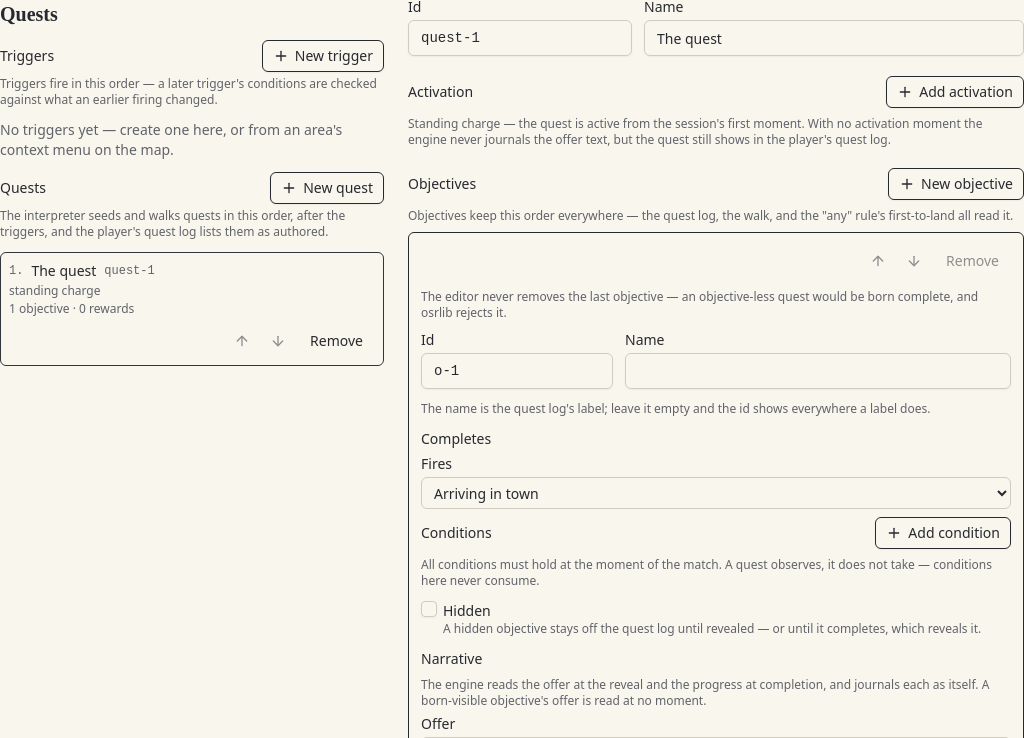
Scenario: a duplicate quest id rejection renders inline in the create dialog — the rename prompt
Click the button "New quest" at (327, 188), box [270, 172, 384, 204]
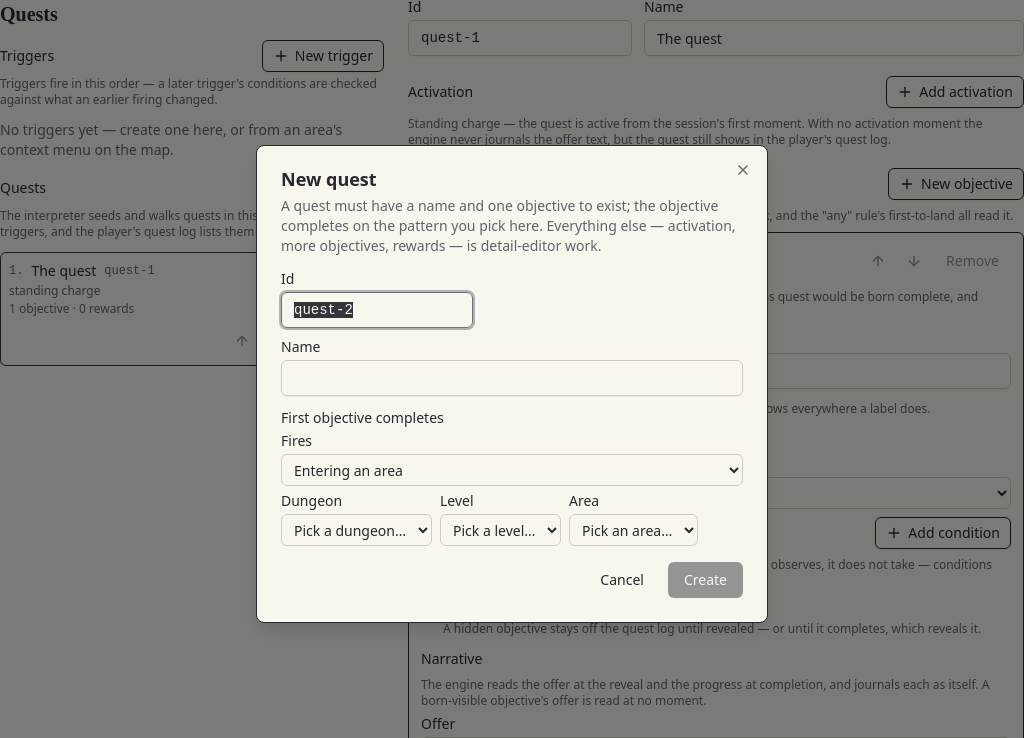
Replace the text in the field labelled "Id" with "quest-1" at (377, 310), box [281, 292, 473, 328]
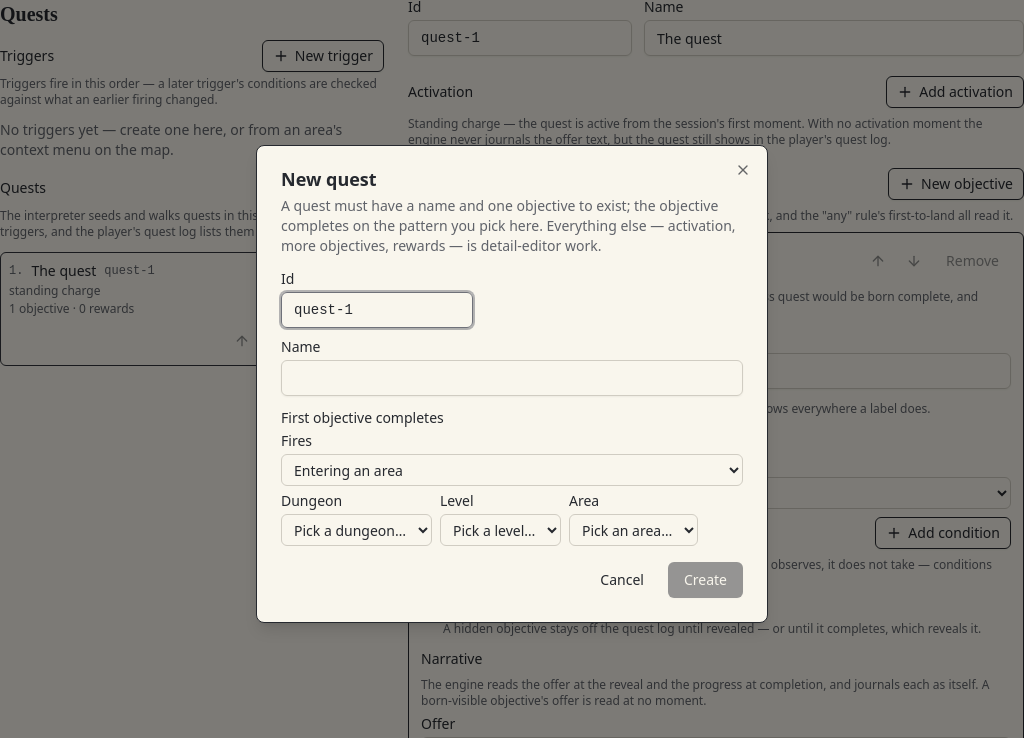
Type "The idol" into the field labelled "Name" at (512, 378), box [281, 360, 743, 396]
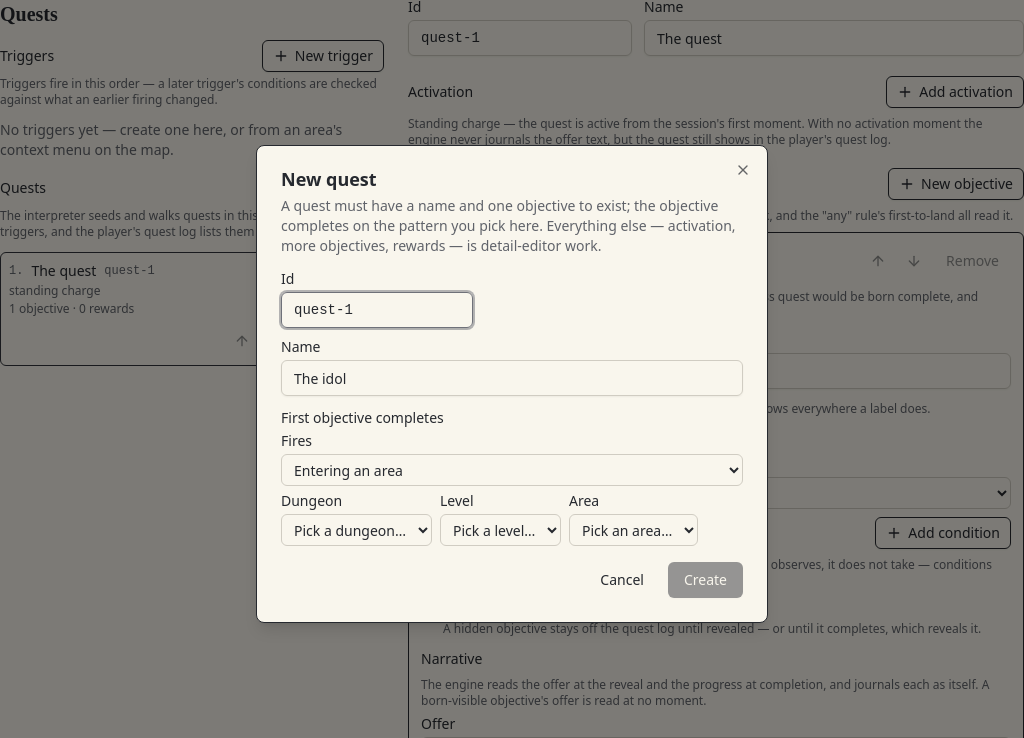
Select "Arriving in town" in the dropdown labelled "Fires" at (512, 470), box [281, 454, 743, 486]
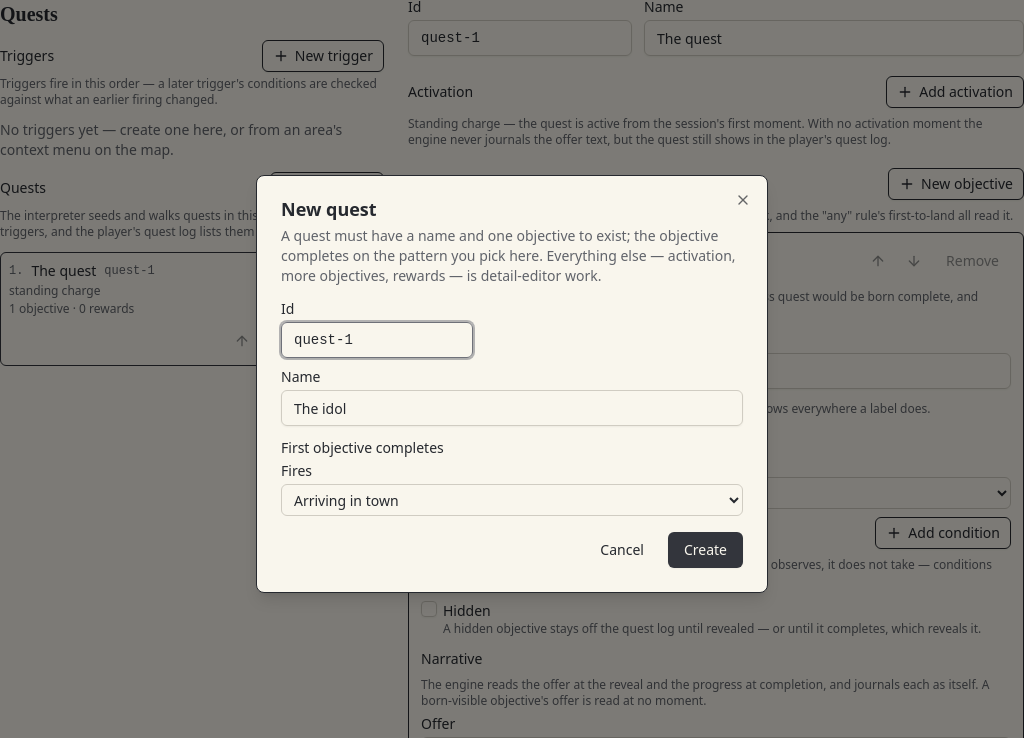
Click the button "Create" at (705, 550), box [668, 532, 743, 568]
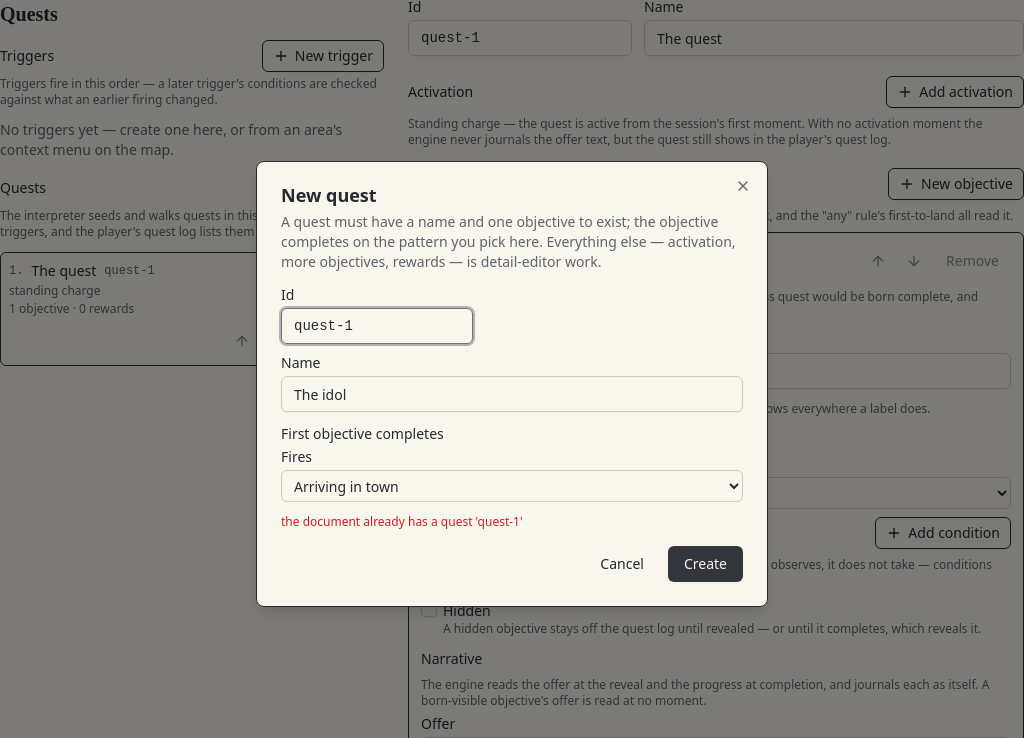
expect the text "the document already has a quest 'quest-1'" is shown: met, box [281, 513, 523, 530]
